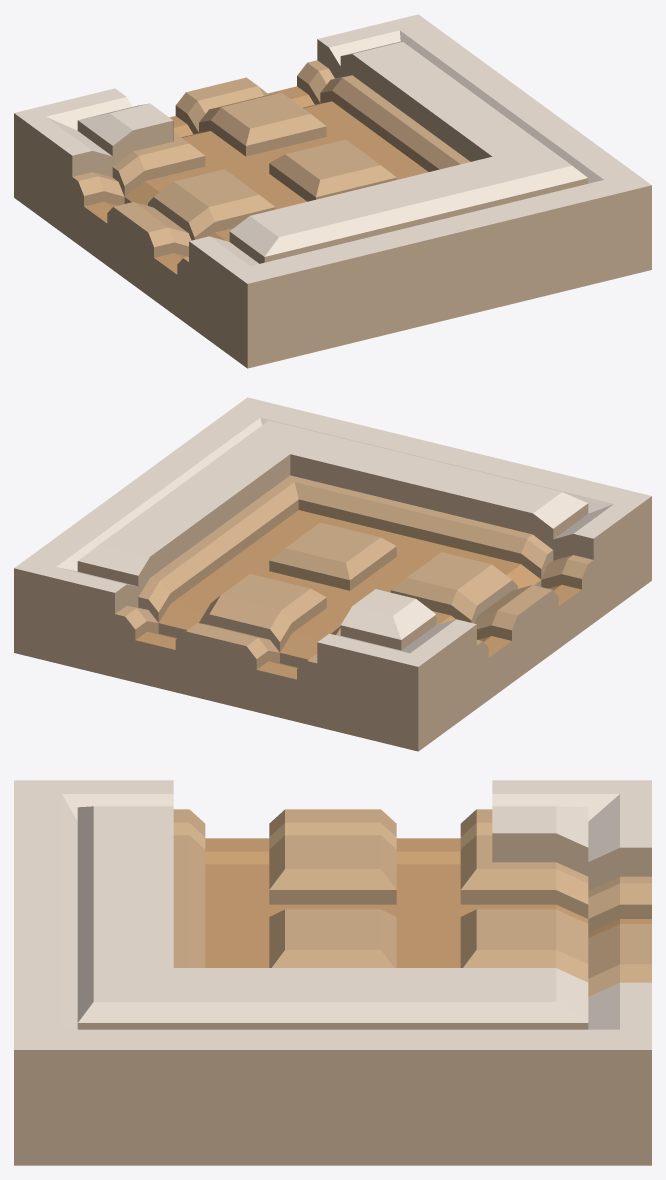
File: Puzzle_Track_Button_Corner.fbx
3 views of the same model, one above another, from view 1: azimuth 30°, elevation 25°; view 2: azimuth 150°, elevation 25°; view 3: azimuth 270°, elevation 25° (orthographic). The views are drawn at different scales.
Visible parts, largest first — view 1: Sandstone_Trim.Sandstone_Trim.Sandstone_Trim.Sandstone_Trim. (×2), Sandstone_4.Sandstone_4.Sandstone_4.Sandstone_4.Sandstone_4. (×2), Sandstone_Floor.Sandstone_Floor.Sandstone_Floor.object1, Sandstone_Floor.Sandstone_Floor.Sandstone_Floor.Sandstone_Fl, Sandstone_5.Sandstone_5.Sandstone_5.Sandstone_5.Sandstone_5, Sandstone_5.Sandstone_5.Sandstone_5.Sandstone_5.Sandstone_5.; view 2: Sandstone_Trim.Sandstone_Trim.Sandstone_Trim.Sandstone_Trim. (×2), Sandstone_4.Sandstone_4.Sandstone_4.Sandstone_4.Sandstone_4. (×2), Sandstone_Floor.Sandstone_Floor.Sandstone_Floor.Sandstone_Fl, Sandstone_Floor.Sandstone_Floor.Sandstone_Floor.object1, Sandstone_5.Sandstone_5.Sandstone_5.Sandstone_5.Sandstone_5, Sandstone_5.Sandstone_5.Sandstone_5.Sandstone_5.Sandstone_5.; view 3: Sandstone_Trim.Sandstone_Trim.Sandstone_Trim.Sandstone_Trim. (×2), Sandstone_Floor.Sandstone_Floor.Sandstone_Floor.object1, Sandstone_4.Sandstone_4.Sandstone_4.Sandstone_4.Sandstone_4. (×2), Sandstone_Floor.Sandstone_Floor.Sandstone_Floor.Sandstone_Fl, Sandstone_5.Sandstone_5.Sandstone_5.Sandstone_5.Sandstone_5, Sandstone_5.Sandstone_5.Sandstone_5.Sandstone_5.Sandstone_5..
Part boxes in pixels (<box>): Sandstone_Trim.Sandstone_Trim.Sandstone_Trim.Sandstone_Trim. (×2): <box>14,39,651,368</box>; Sandstone_4.Sandstone_4.Sandstone_4.Sandstone_4.Sandstone_4. (×2): <box>73,60,470,261</box>; Sandstone_Floor.Sandstone_Floor.Sandstone_Floor.object1: <box>78,41,587,256</box>; Sandstone_Floor.Sandstone_Floor.Sandstone_Floor.Sandstone_Fl: <box>14,14,651,283</box>; Sandstone_5.Sandstone_5.Sandstone_5.Sandstone_5.Sandstone_5: <box>125,101,428,241</box>; Sandstone_5.Sandstone_5.Sandstone_5.Sandstone_5.Sandstone_5.: <box>84,86,314,274</box>; Sandstone_Trim.Sandstone_Trim.Sandstone_Trim.Sandstone_Trim. (×2): <box>14,454,651,751</box>; Sandstone_4.Sandstone_4.Sandstone_4.Sandstone_4.Sandstone_4. (×2): <box>115,475,592,669</box>; Sandstone_Floor.Sandstone_Floor.Sandstone_Floor.Sandstone_Fl: <box>14,397,651,666</box>; Sandstone_Floor.Sandstone_Floor.Sandstone_Floor.object1: <box>78,420,587,639</box>; Sandstone_5.Sandstone_5.Sandstone_5.Sandstone_5.Sandstone_5: <box>159,510,540,659</box>; Sandstone_5.Sandstone_5.Sandstone_5.Sandstone_5.Sandstone_5.: <box>135,584,581,679</box>; Sandstone_Trim.Sandstone_Trim.Sandstone_Trim.Sandstone_Trim. (×2): <box>14,833,651,1165</box>; Sandstone_Floor.Sandstone_Floor.Sandstone_Floor.object1: <box>77,806,588,1022</box>; Sandstone_4.Sandstone_4.Sandstone_4.Sandstone_4.Sandstone_4. (×2): <box>173,809,651,996</box>; Sandstone_Floor.Sandstone_Floor.Sandstone_Floor.Sandstone_Fl: <box>14,780,651,1049</box>; Sandstone_5.Sandstone_5.Sandstone_5.Sandstone_5.Sandstone_5: <box>205,864,588,967</box>; Sandstone_5.Sandstone_5.Sandstone_5.Sandstone_5.Sandstone_5.: <box>205,838,651,937</box>.
Size of the model in its own units: 1 by 0.225 by 1.
